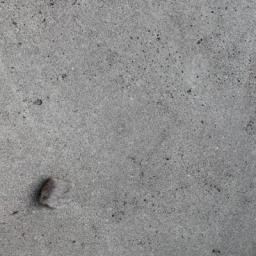FOD: (38, 176, 80, 214)
